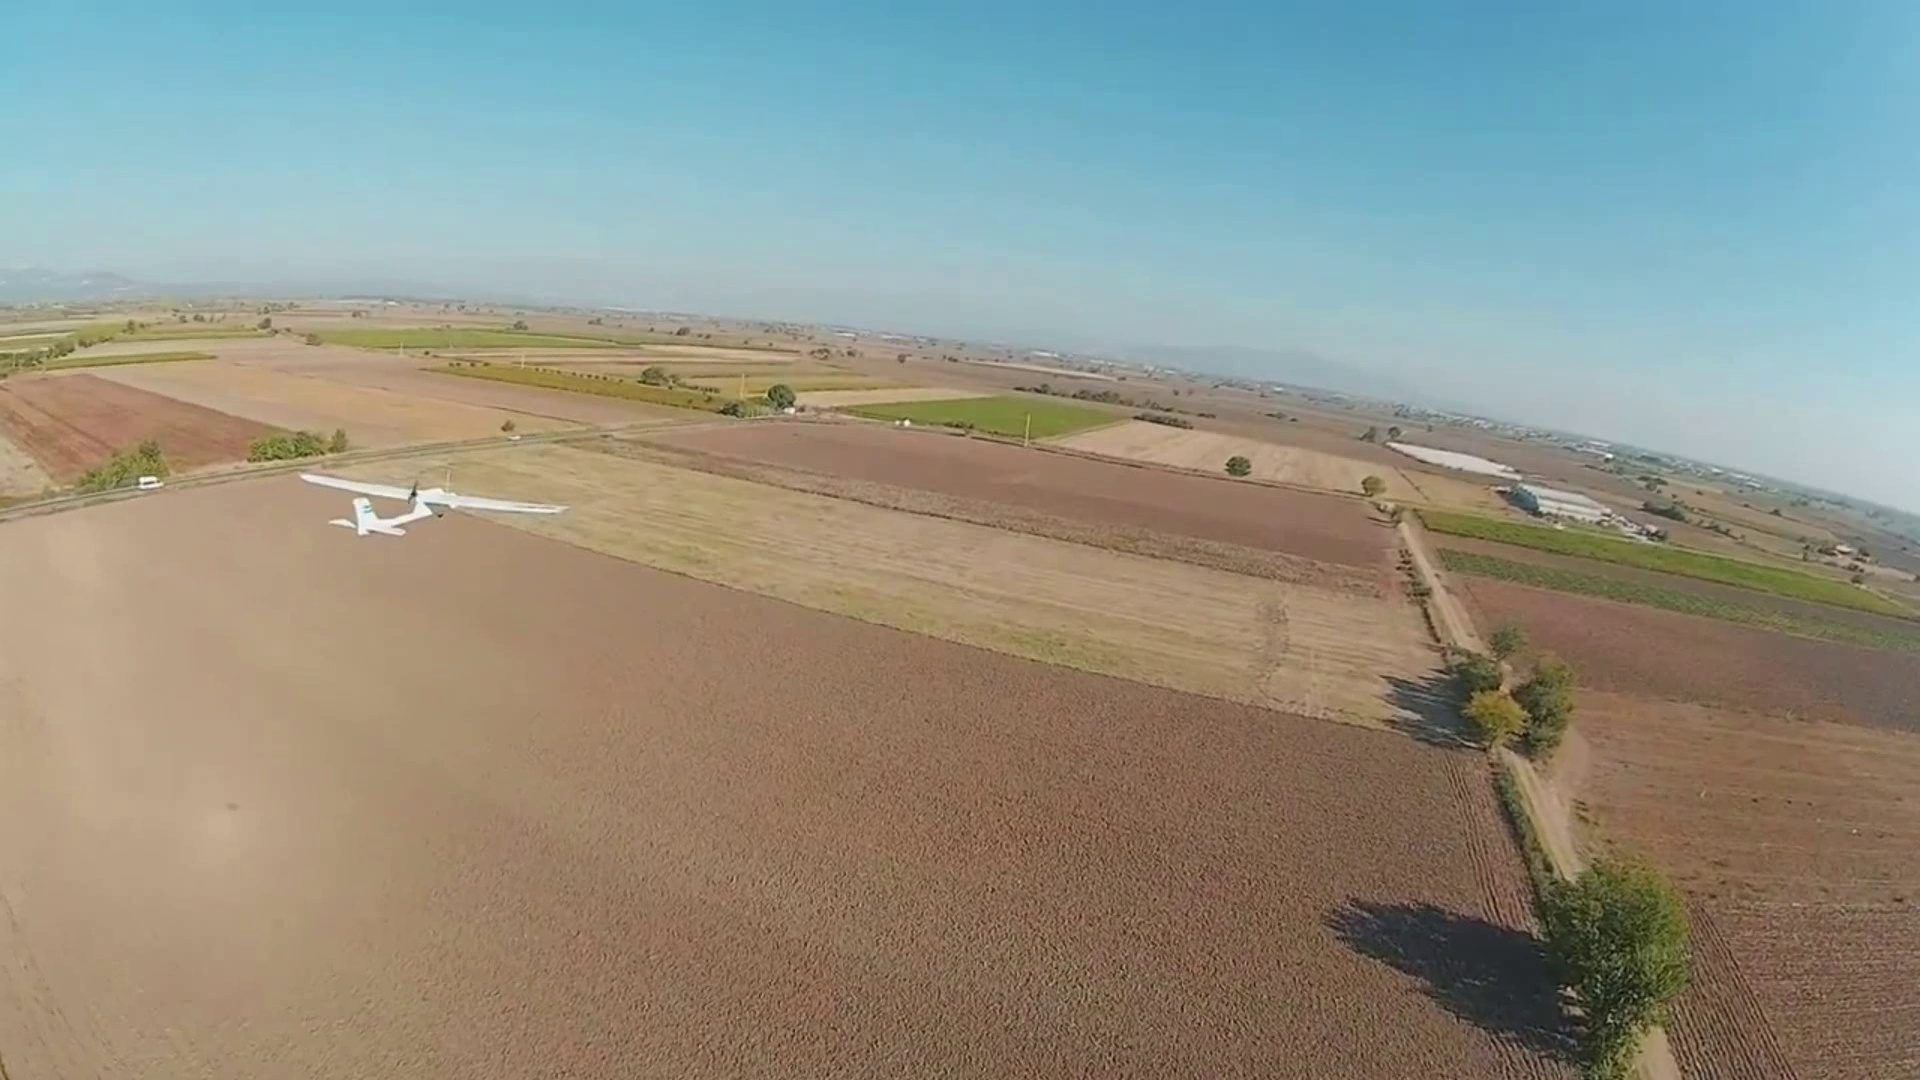airplane: (301, 473, 569, 538)
